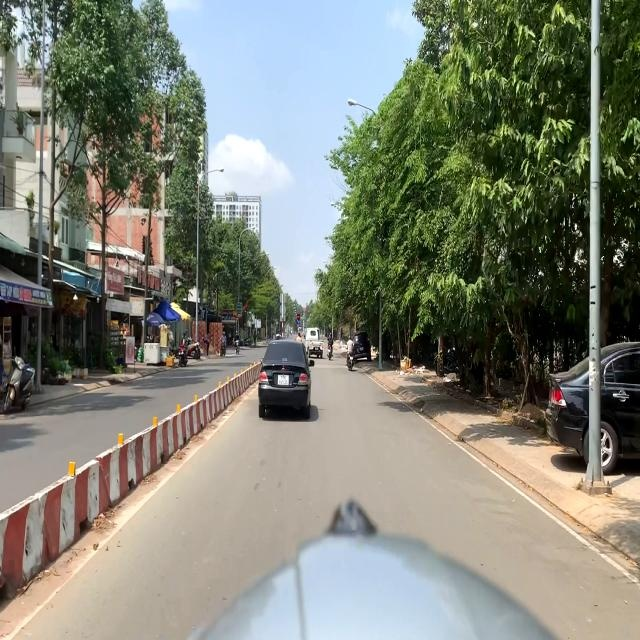bien_cam: (297, 314, 300, 320), (296, 320, 300, 324)
